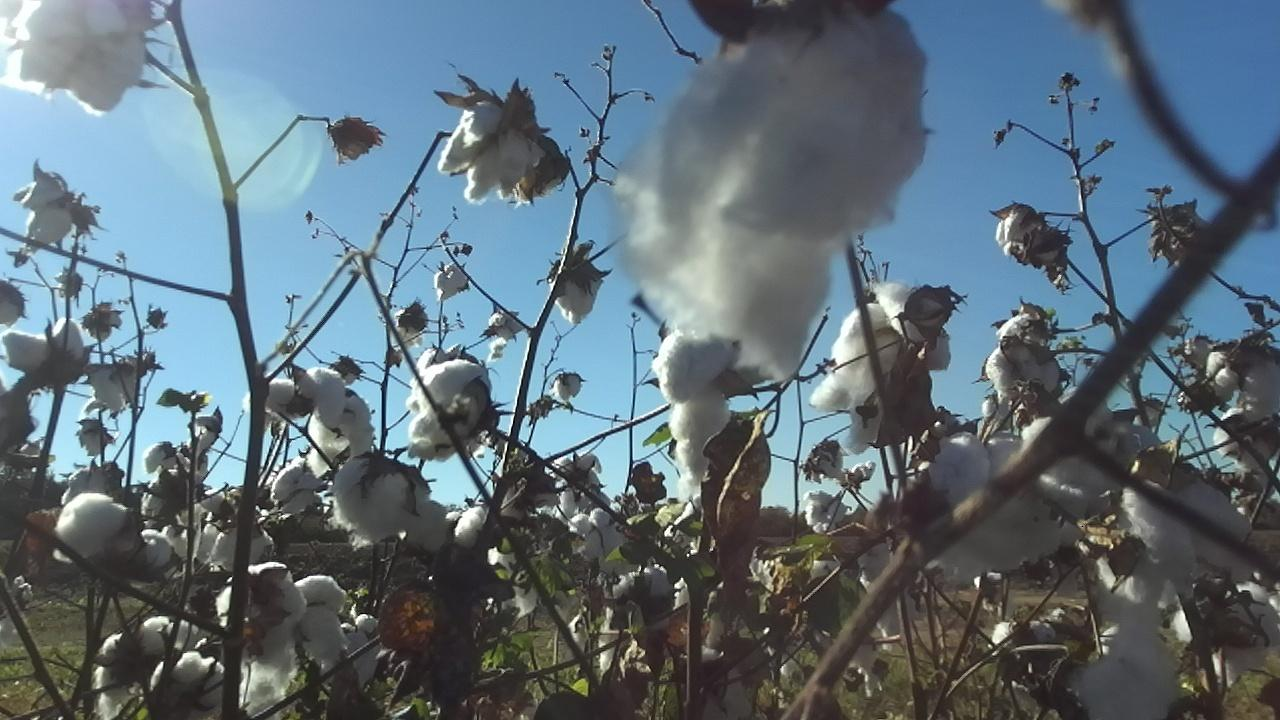cotton_ready: (612, 8, 929, 385), (928, 432, 1069, 577), (0, 0, 149, 114), (1122, 470, 1269, 585), (654, 327, 742, 505), (809, 304, 899, 455), (215, 560, 307, 700), (1022, 397, 1133, 511), (437, 99, 542, 204), (1074, 624, 1185, 720), (1173, 595, 1280, 686), (55, 495, 174, 573), (334, 455, 429, 546), (411, 359, 489, 461), (874, 279, 950, 374), (95, 630, 169, 720), (1094, 550, 1168, 634), (244, 364, 349, 423), (668, 655, 759, 720), (309, 394, 377, 477), (609, 564, 677, 644), (3, 317, 89, 379), (147, 655, 229, 720), (1209, 340, 1280, 407), (20, 167, 77, 250), (324, 614, 382, 695), (299, 574, 352, 662), (985, 344, 1064, 402), (994, 619, 1064, 684), (862, 542, 908, 636), (419, 504, 492, 563), (1217, 411, 1280, 470), (552, 260, 605, 329), (554, 450, 608, 511), (572, 505, 630, 561), (212, 524, 275, 571), (89, 357, 140, 414), (998, 314, 1055, 365), (273, 457, 322, 515), (996, 210, 1045, 261), (805, 490, 852, 534), (1029, 237, 1072, 265), (0, 282, 24, 327)
